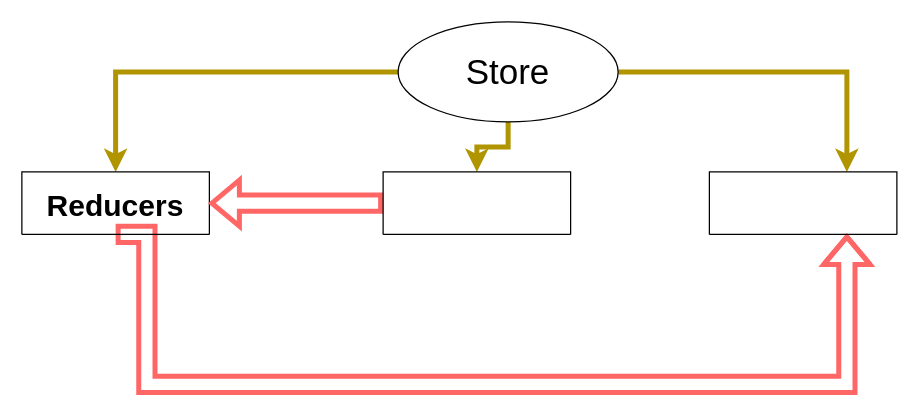
Some shapes in this 919 by 416 pixel diagram are drawn without their labels. Here are the shapes that lost their labels. From the top down, the centre of each, then its label:
the point at 476,202: Actions
the point at 802,202: State Store
